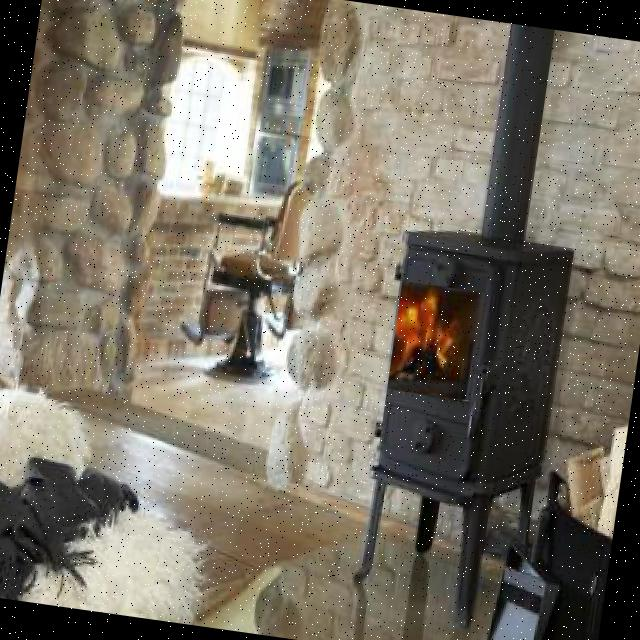fire: (387, 281, 487, 401)
